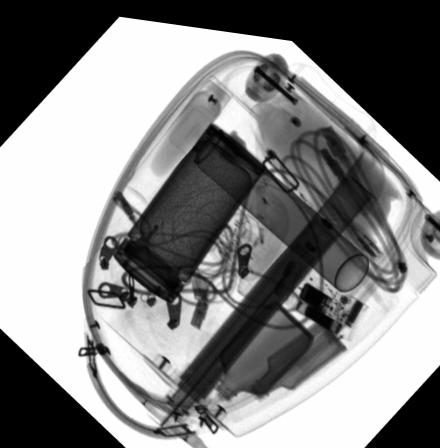Sprayer: (168, 101, 370, 281)
